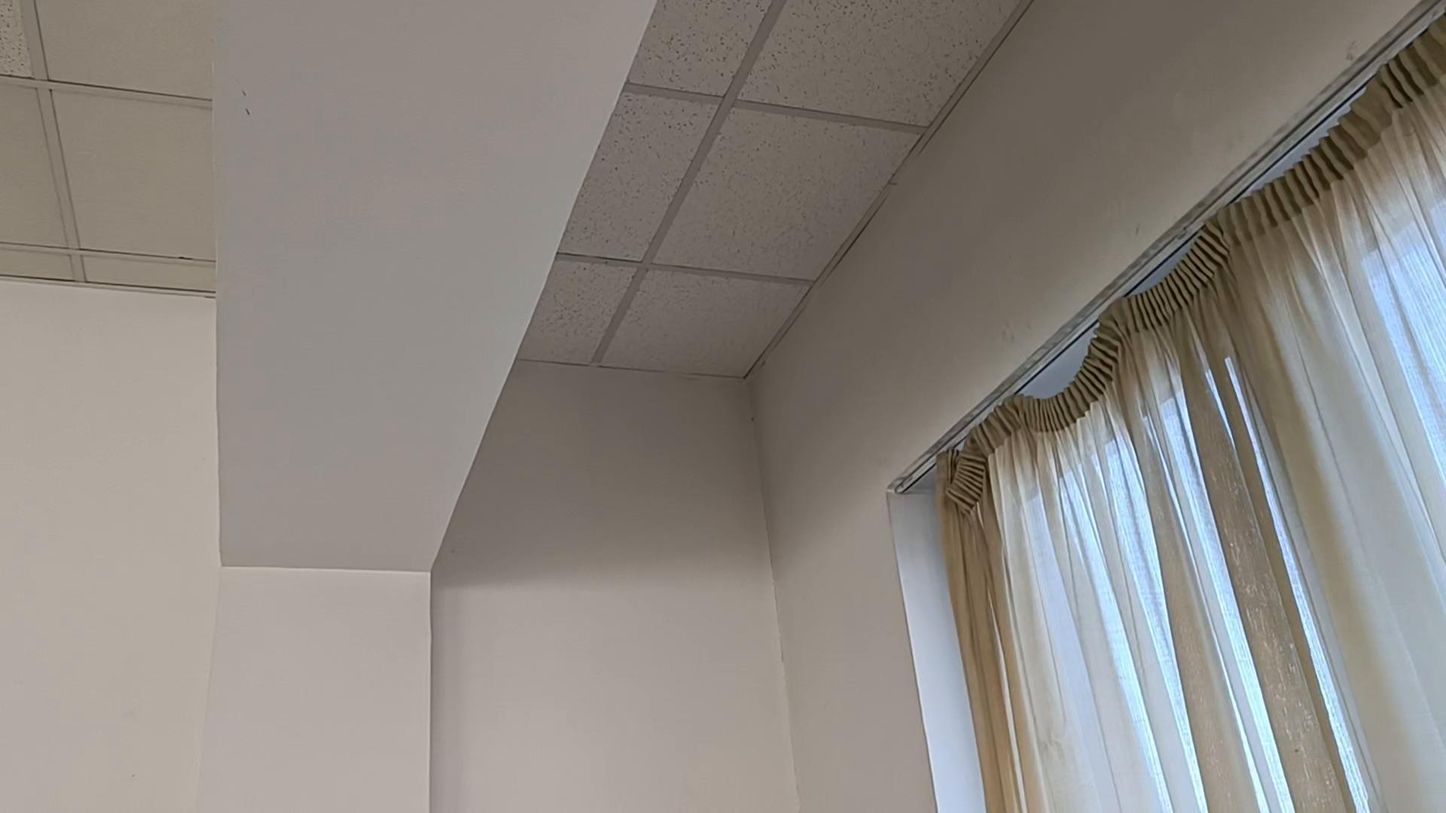ceiling: (520, 0, 1028, 375), (519, 0, 1024, 376), (0, 0, 214, 292)
pillar: (200, 0, 654, 811)
wall: (0, 279, 453, 812), (217, 0, 648, 540), (0, 0, 211, 89)
